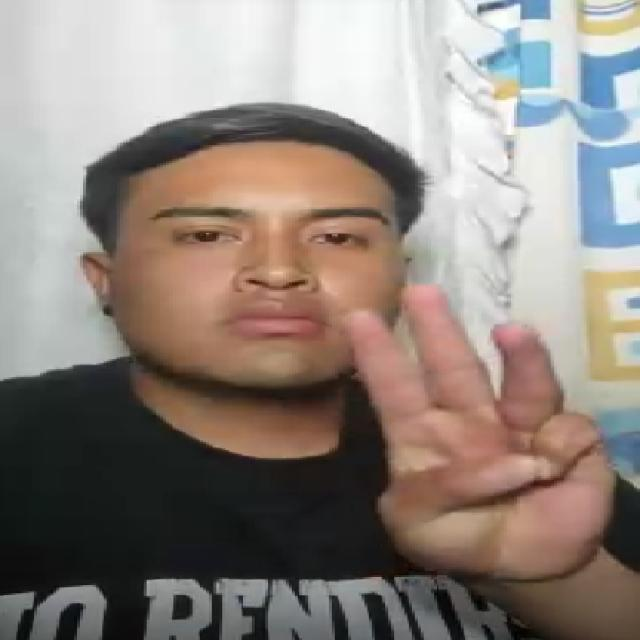W: (326, 290, 626, 585)
